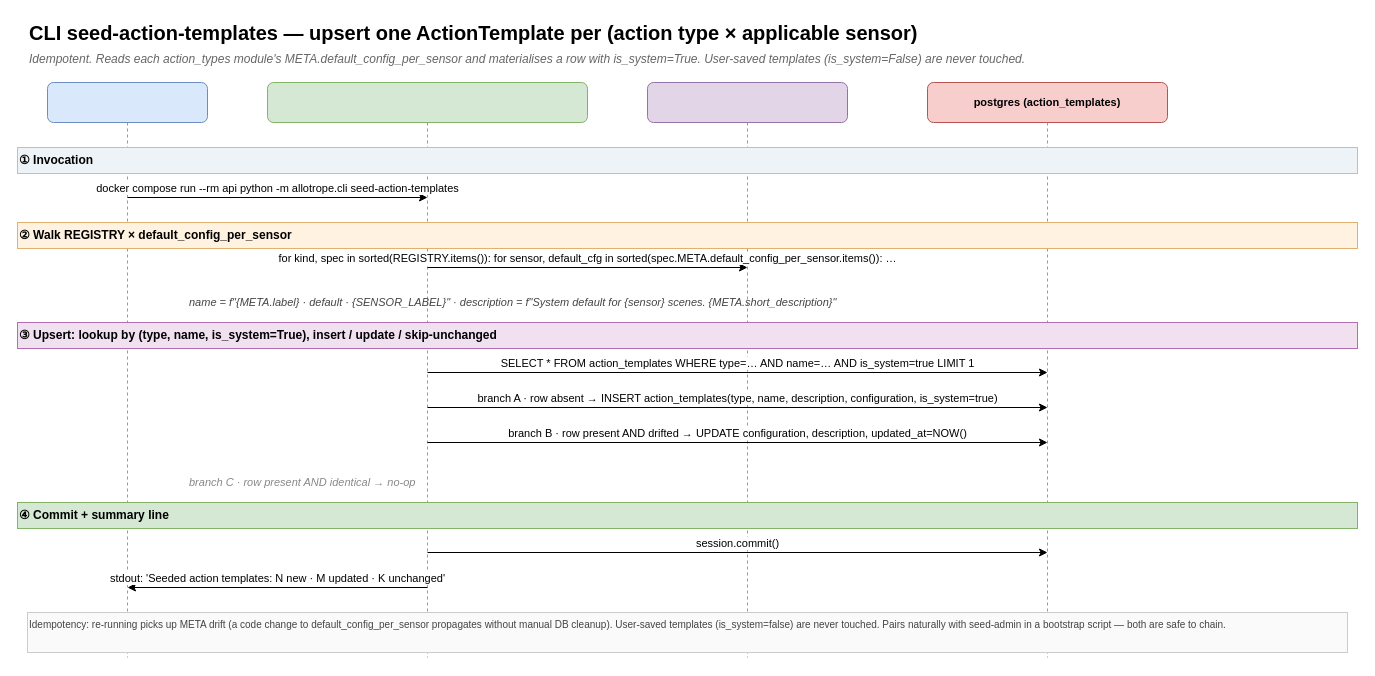
The diagram is 1375 pixels wide and 676 high, and some of its shapes have lost their labels. The shapes that lost their labels are listed below. From the top down, each one's centre as x and y in pixels, then its label:
At pixel 127 102: "Operator (shell)".
At pixel 427 102: "python -m allotrope.cli seed-action-templates".
At pixel 747 102: "action_types REGISTRY".
